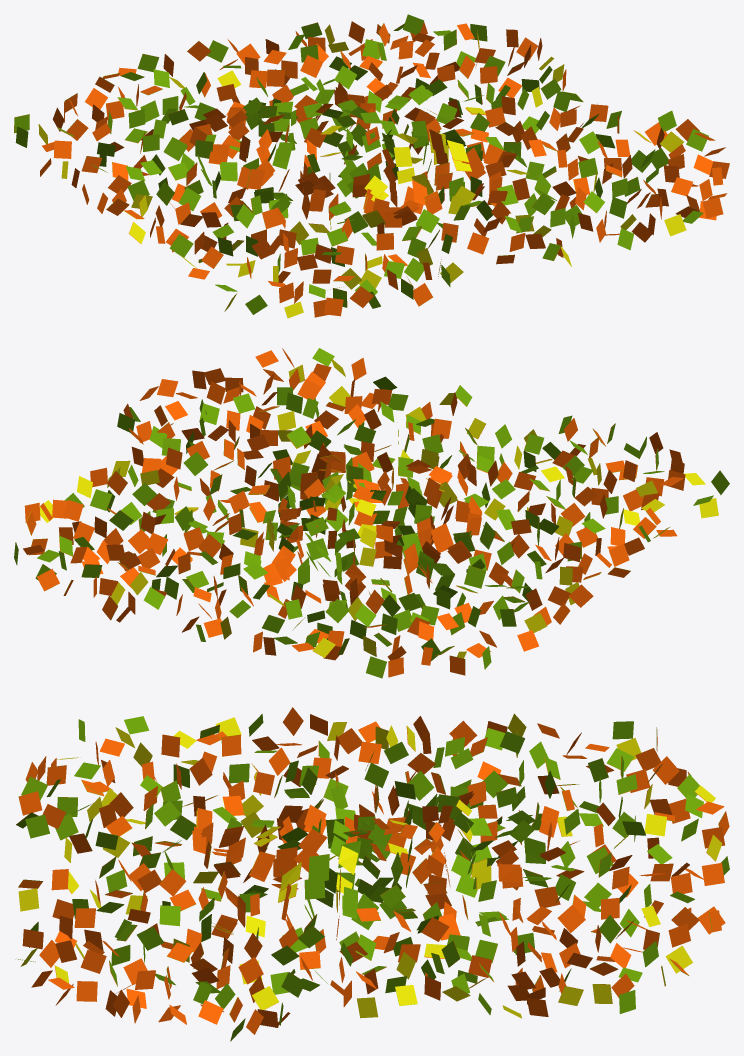
The model's file is Leafs.fbx.
The picture shows the model from 3 angles, top to bottom: view 1: azimuth 30°, elevation 25°; view 2: azimuth 150°, elevation 25°; view 3: azimuth 270°, elevation 25°; orthographic projection. The views are drawn at different scales.
Parts seen in each view (by area): view 1: DeadLeaves_03, DeadLeaves_01, DeadLeaves_02; view 2: DeadLeaves_03, DeadLeaves_01, DeadLeaves_02; view 3: DeadLeaves_03, DeadLeaves_01, DeadLeaves_02.
Boxes of the visible parts, x1,y1,x2,y2 form: DeadLeaves_03: (14,14,729,316); DeadLeaves_01: (163,64,574,257); DeadLeaves_02: (106,24,727,318); DeadLeaves_03: (23,348,682,678); DeadLeaves_01: (141,418,559,609); DeadLeaves_02: (14,350,729,644); DeadLeaves_03: (15,707,729,1041); DeadLeaves_01: (118,751,577,976); DeadLeaves_02: (46,714,729,1018).
Size of the model in its own units: 213 by 21.33 by 210.
Materials: 1 (1 with a texture image).
